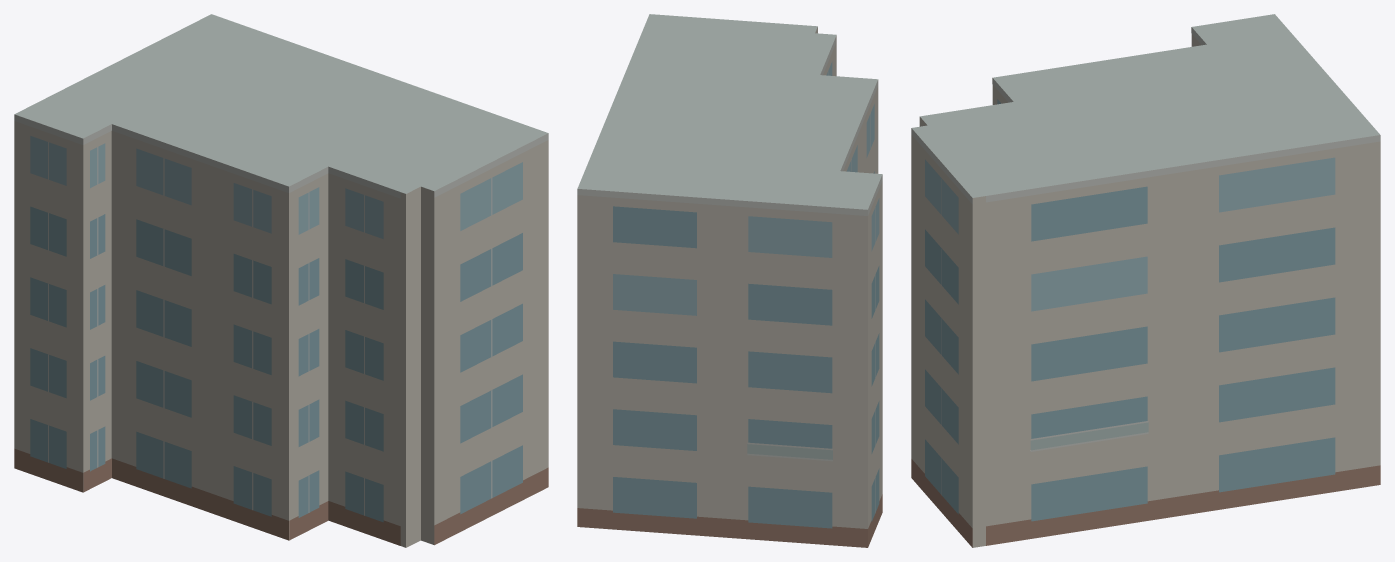
File: survey-upis-32617224.glb
3 renders of one model, left to right at view 1: azimuth 30°, elevation 25°; view 2: azimuth 150°, elevation 25°; view 3: azimuth 270°, elevation 25°, orthographic. The views are drawn at different scales.
Parts seen in each view (by area): view 1: survey-upis-32617224.tmp; view 2: survey-upis-32617224.tmp; view 3: survey-upis-32617224.tmp.
Boxes of the visible parts, x1=… form: survey-upis-32617224.tmp: x1=14, y1=14, x2=548, y2=547; survey-upis-32617224.tmp: x1=577, y1=14, x2=882, y2=547; survey-upis-32617224.tmp: x1=911, y1=14, x2=1380, y2=547.
Bounding box in the file's own units: 14.78 × 13.1 × 15.93.
